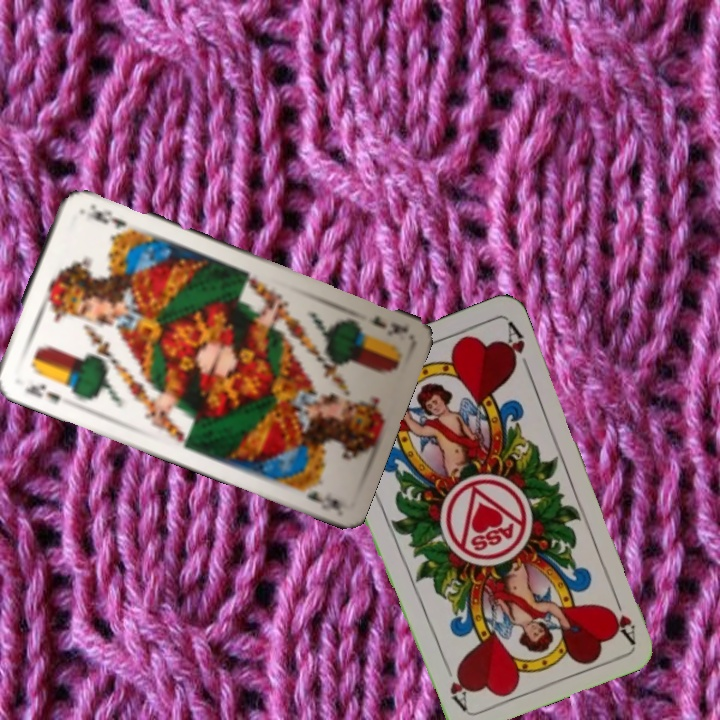EK: (364, 312, 410, 338), (20, 380, 63, 407)
HA: (603, 588, 638, 645)
